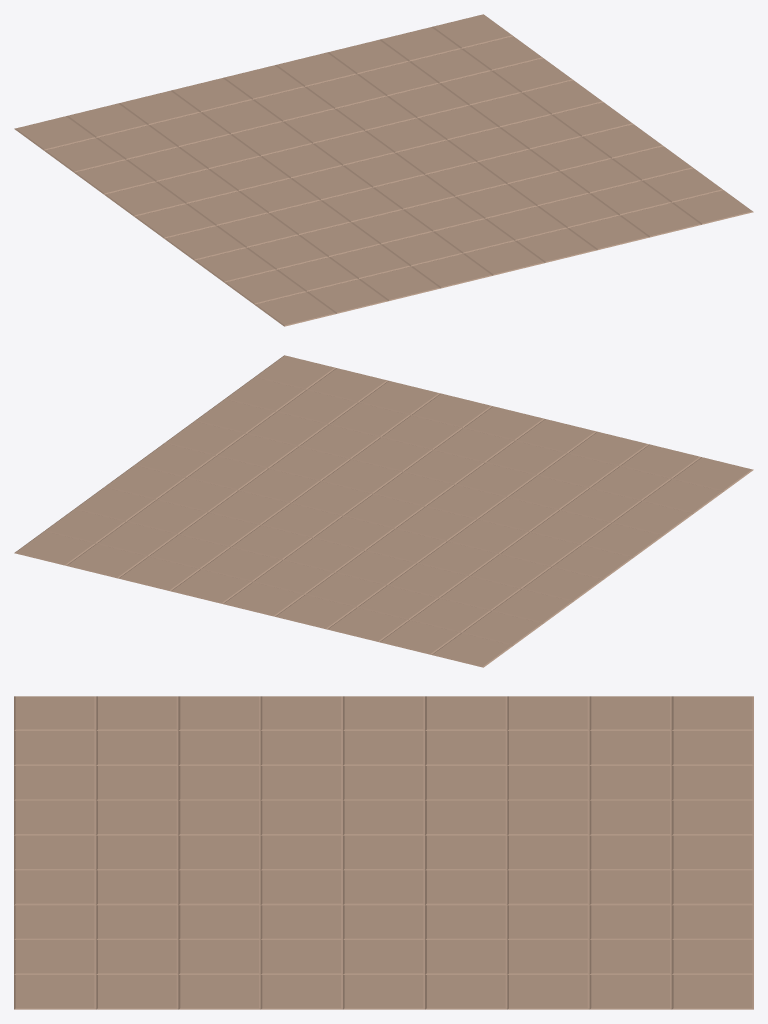
The model's file is Floortile_5.fbx.
3 renders of one model, top to bottom at view 1: azimuth 30°, elevation 25°; view 2: azimuth 150°, elevation 25°; view 3: azimuth 270°, elevation 25°, orthographic. The views are drawn at different scales.
Visible parts, largest first — view 1: Floortile_5; view 2: Floortile_5; view 3: Floortile_5.
Part boxes in pixels (x1,y1,x2,y2): Floortile_5: (14,14,753,326); Floortile_5: (14,355,753,667); Floortile_5: (14,696,753,1009).
Size of the model in its own units: 490 by 489 by 0.6003.
